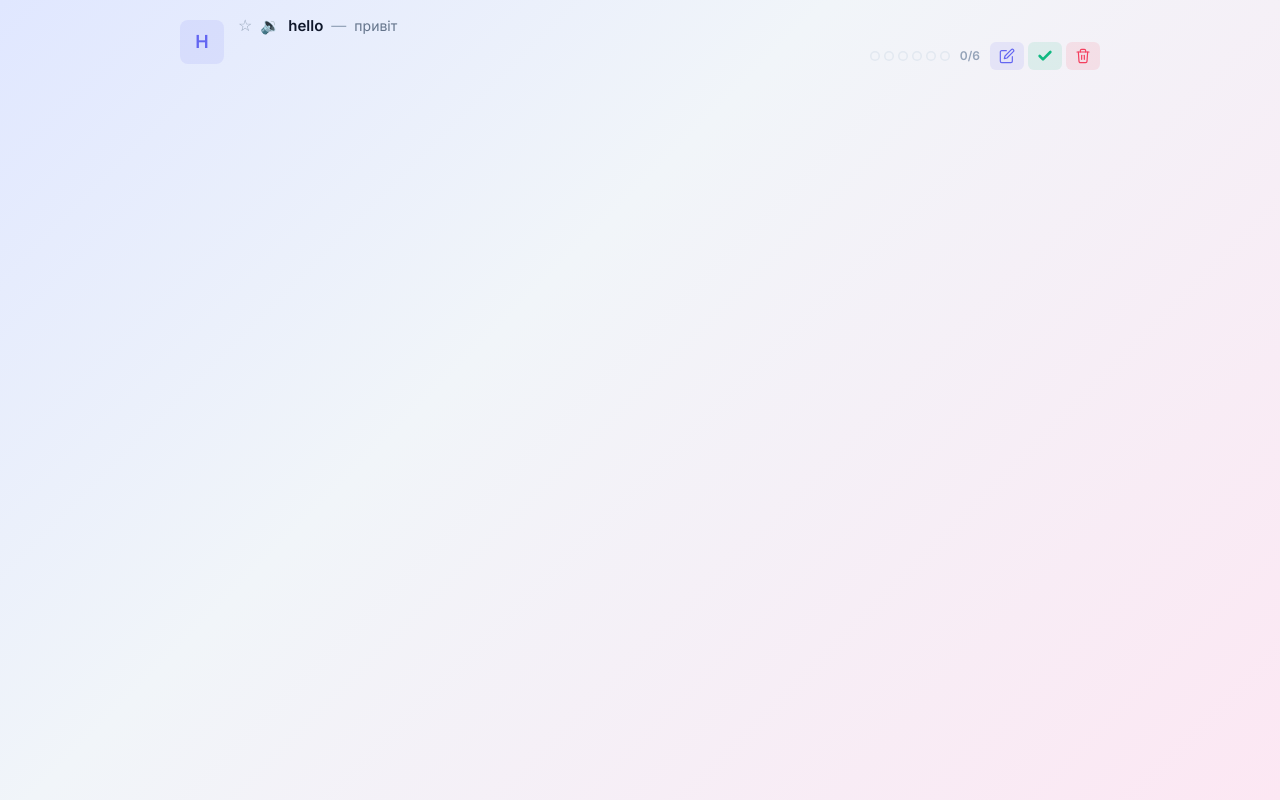
Test: WordRow edit › cancel discards changes and exits edit mode
Click the button named "Edit". click: (1007, 56)
box: 990,42 -> 1024,70
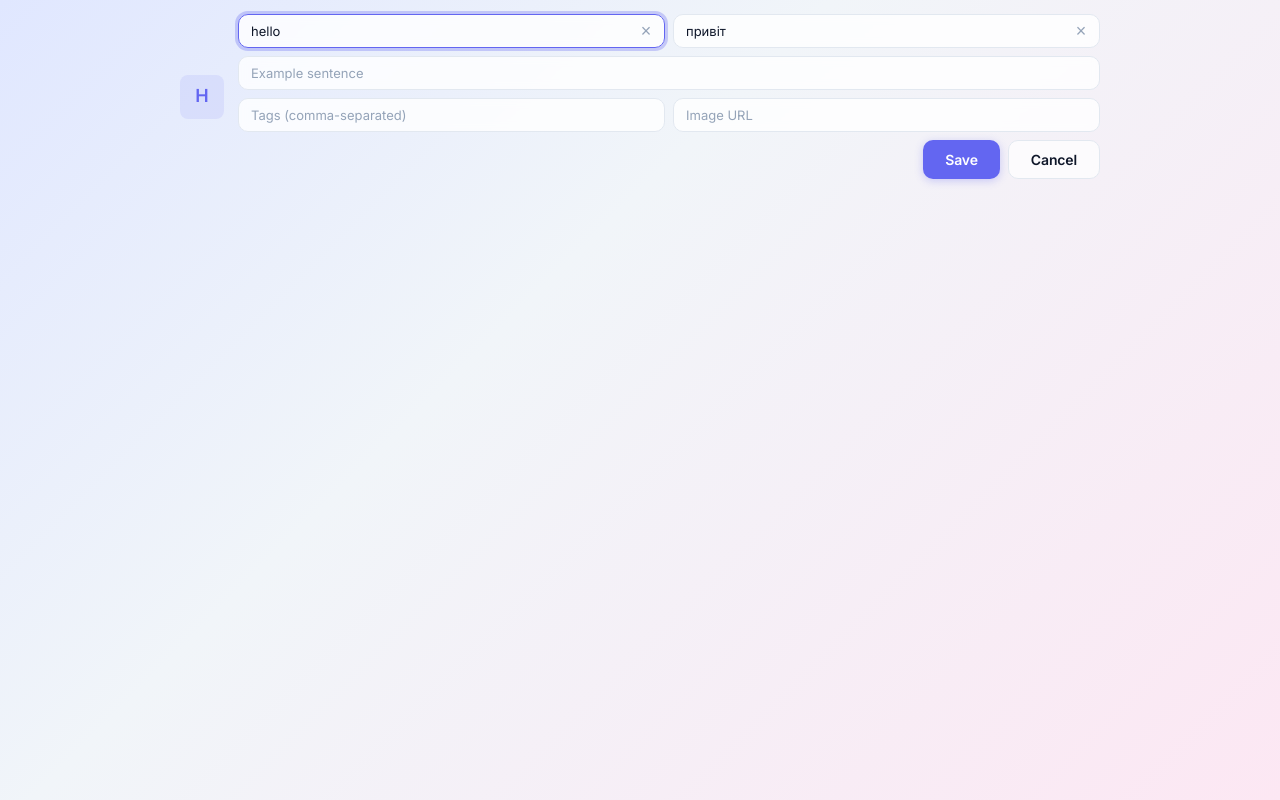
Replace the text in the field named "Word" with "changed". click: (452, 31)
box: 238,14 -> 665,48
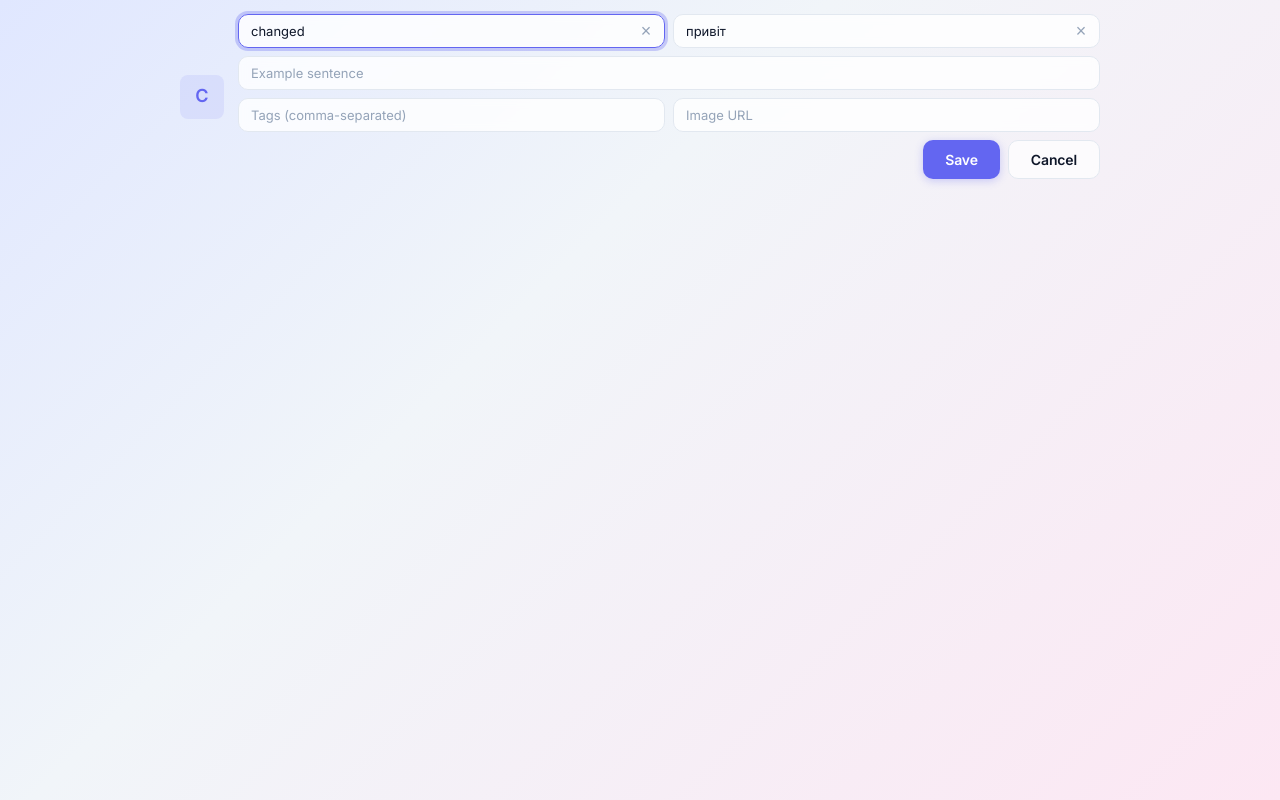
Click the button "Cancel". click: (1054, 160)
box: 1008,140 -> 1100,179
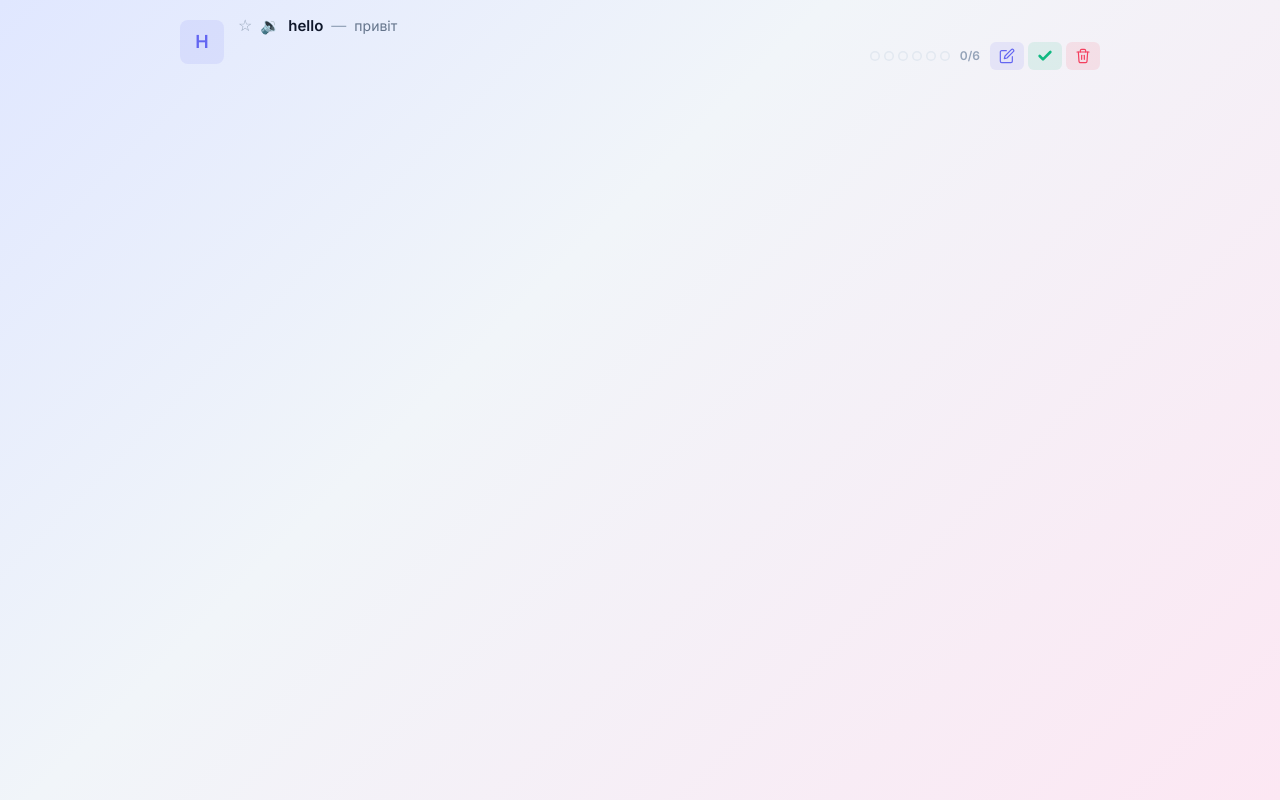
Check: the text "hello" is shown, box 288,14 -> 323,38
